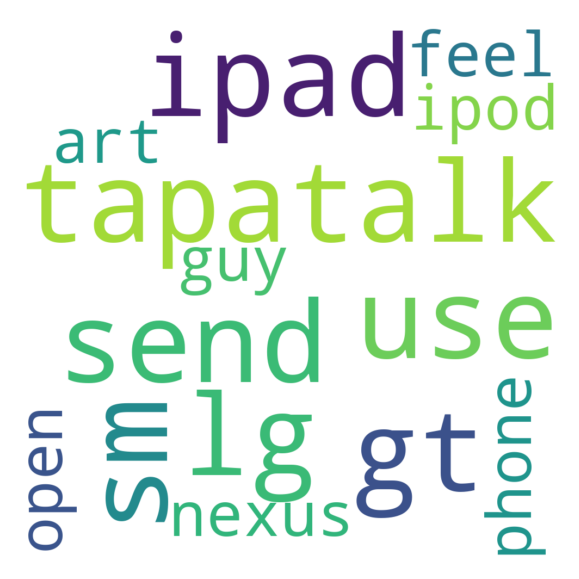

Layout of this report page (visuals, bound fields, positions):
{"tool":"tableau","page":{"name":"Dashboard 1","canvas":[1000,800],"ordinal":0},"visuals":[{"type":"worksheet","title":"Topics","mark":"Automatic","box":[74,14,886,777]},{"type":"worksheet","title":"Topics","mark":"Automatic","param":"[federated.0f70d2m07pqro519ml5wd1i6v16a].[none:type:nk]","box":[10,18,72,40]}]}

Visuals, with their boxes on the page's 1000x800 design canvas (x1, y1, x2, y2). These are canvas units, not pixel positions in the 579x579 screenshot, which may show the page scaled, cropped or inside an application window:
"Topics" worksheet: select_region(74, 14, 960, 791)
"Topics" worksheet: select_region(10, 18, 82, 58)
